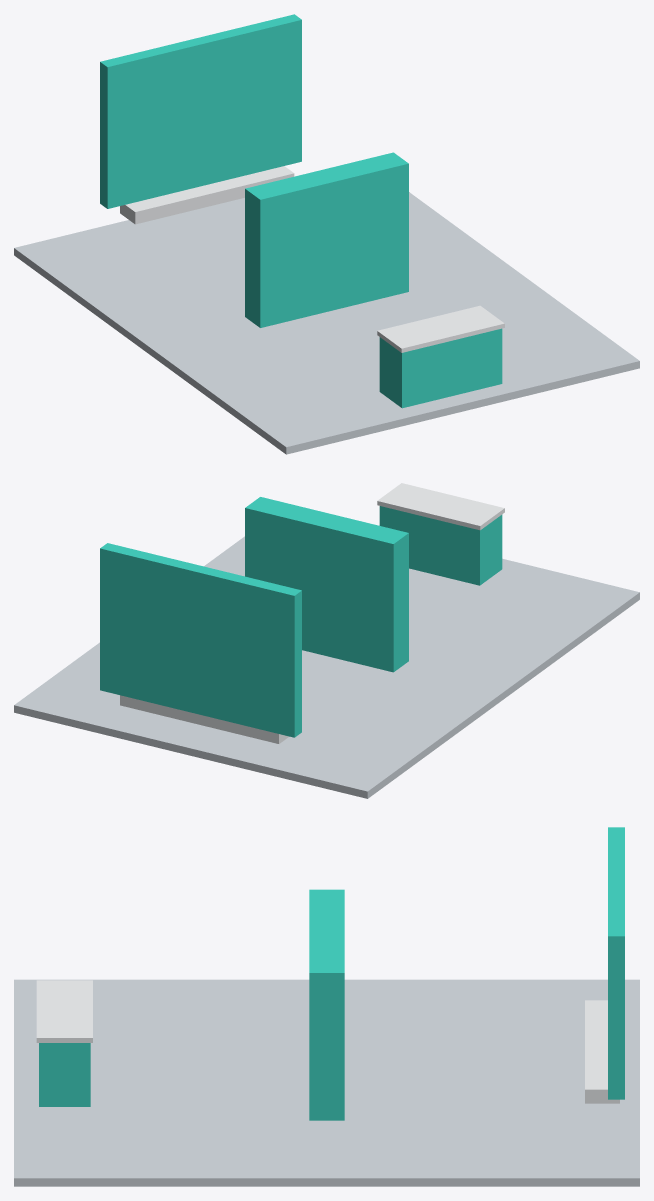
3 renders of one model, top to bottom at view 1: azimuth 30°, elevation 25°; view 2: azimuth 150°, elevation 25°; view 3: azimuth 270°, elevation 25°, orthographic. The views are drawn at different scales.
Visible parts, largest first — view 1: Exhibition Booth Concept; view 2: Exhibition Booth Concept; view 3: Exhibition Booth Concept.
Part boxes in pixels (left/top/right/bottom): Exhibition Booth Concept: left=14, top=14, right=639, bottom=454; Exhibition Booth Concept: left=14, top=483, right=639, bottom=798; Exhibition Booth Concept: left=14, top=827, right=639, bottom=1186.
Size of the model in its own units: 6 by 2.9 by 8.
